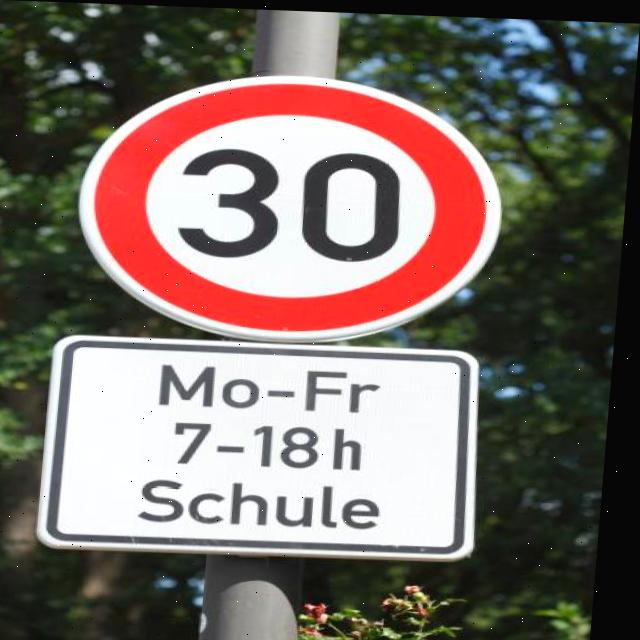Speed limit 30: (71, 65, 518, 347)
